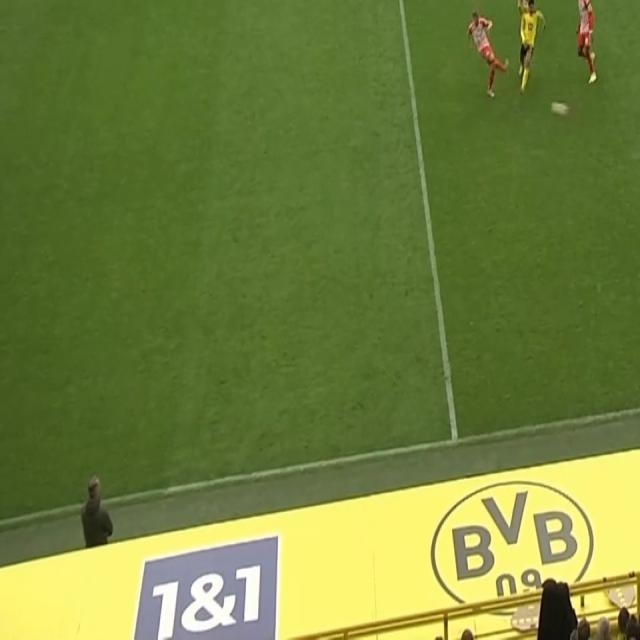ball: (549, 97, 571, 120)
